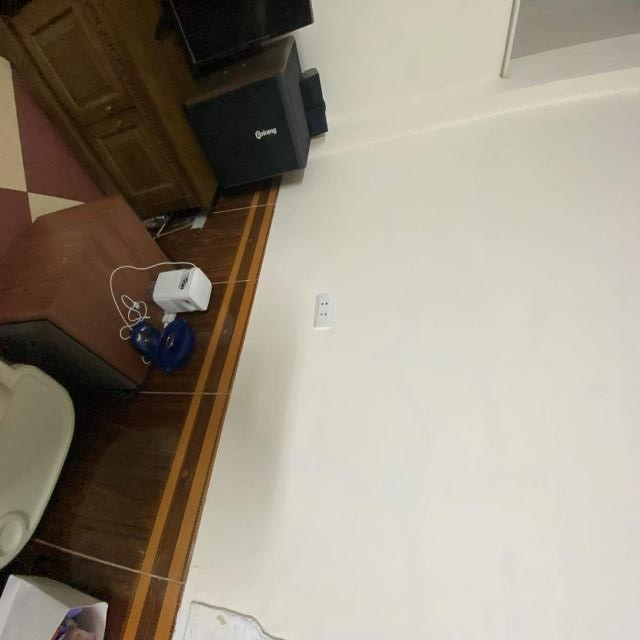outlet: (315, 292, 333, 328)
